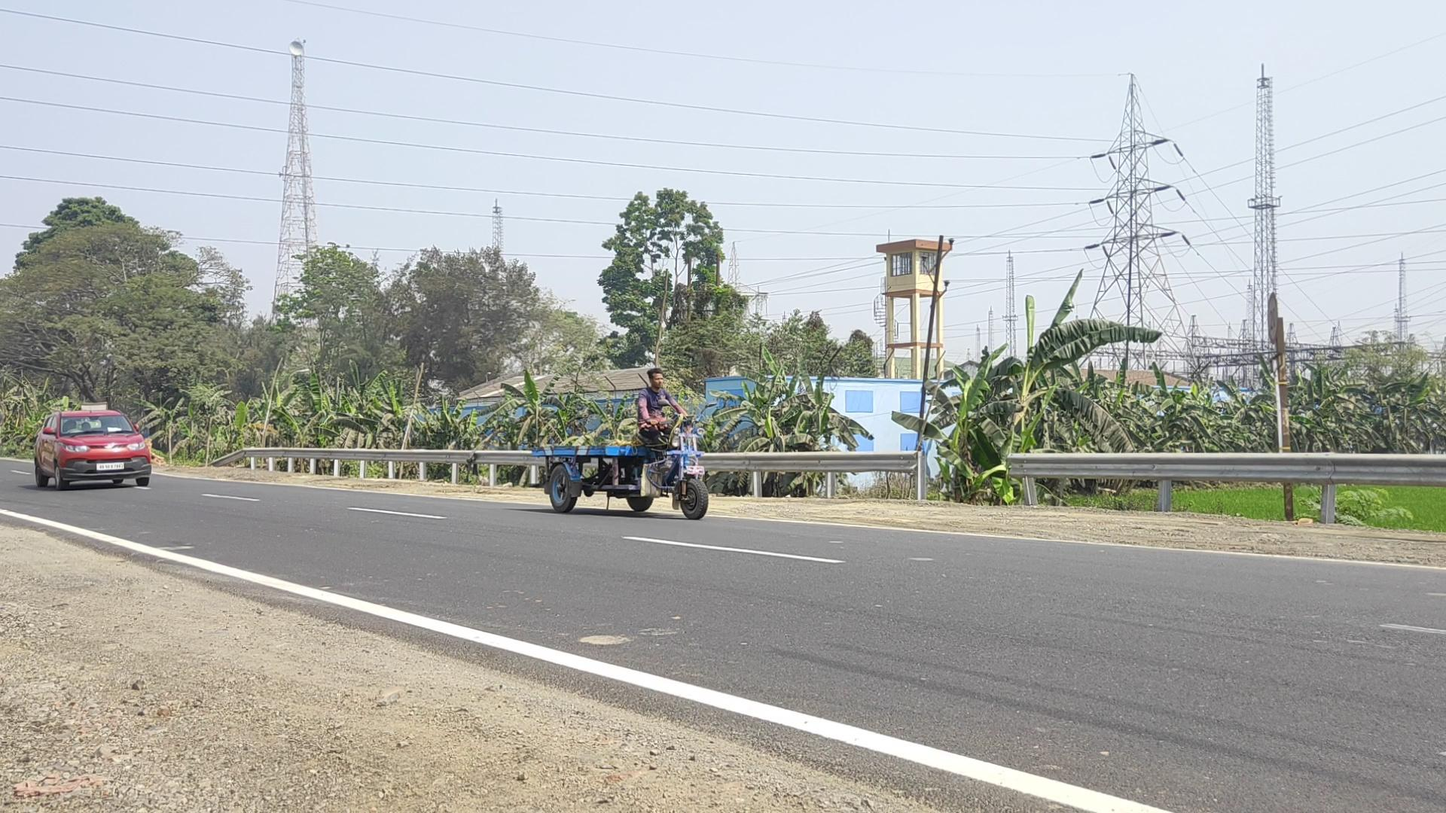car: (34, 410, 151, 491)
